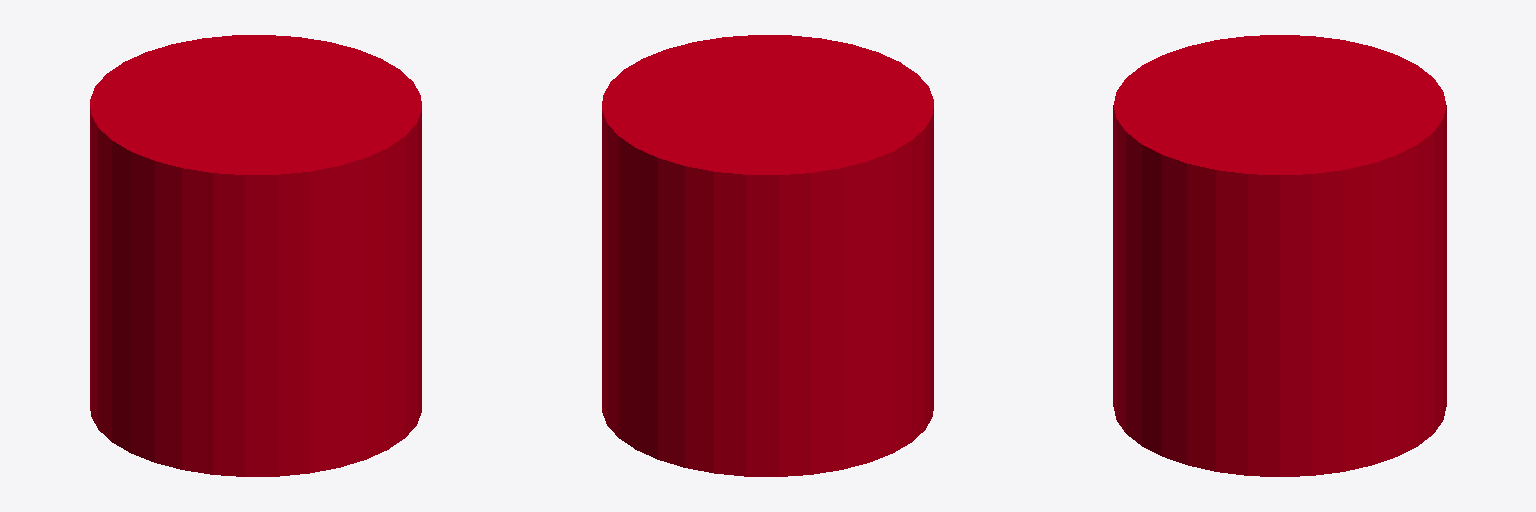
Rendered from collectable.obj.
The picture shows the model from 3 angles: view 1: azimuth 30°, elevation 25°; view 2: azimuth 150°, elevation 25°; view 3: azimuth 270°, elevation 25°; orthographic projection.
Visible parts, largest first — view 1: Cylinder; view 2: Cylinder; view 3: Cylinder.
Boxes of the visible parts, x1,y1,x2,y2 form: Cylinder: [90, 35, 421, 476]; Cylinder: [602, 35, 933, 476]; Cylinder: [1113, 35, 1446, 476].
Size of the model in its own units: 2 by 2 by 2.